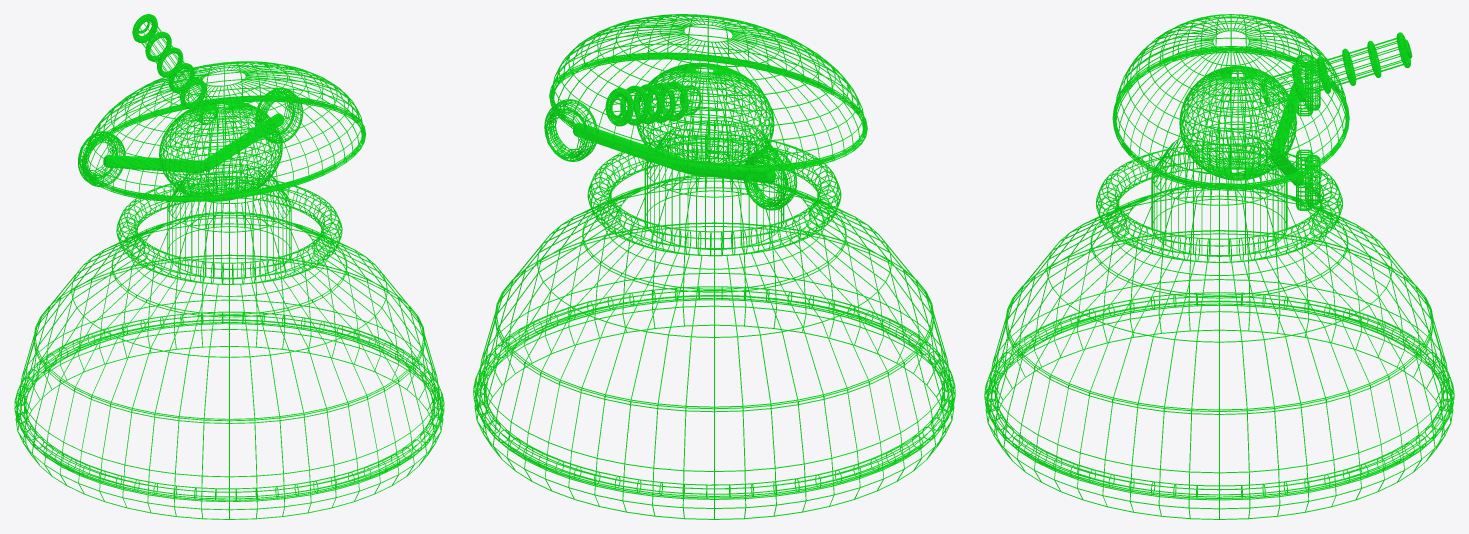
The model's file is plasma-turret-wireframe.glb.
The picture shows the model from 3 angles, left to right: view 1: azimuth 30°, elevation 25°; view 2: azimuth 150°, elevation 25°; view 3: azimuth 270°, elevation 25°; orthographic projection. The views are drawn at different scales.
Parts seen in each view (by area): view 1: armoured-power-base technical wire, water-cooled-plasma-delivery technical wire, chassis technical wire, tracking-and-ranging-sensors technical wire; view 2: armoured-power-base technical wire, water-cooled-plasma-delivery technical wire, chassis technical wire, tracking-and-ranging-sensors technical wire; view 3: armoured-power-base technical wire, water-cooled-plasma-delivery technical wire, chassis technical wire, tracking-and-ranging-sensors technical wire.
Boxes of the visible parts, x1=… form: armoured-power-base technical wire: x1=15, y1=163, x2=443, y2=519; water-cooled-plasma-delivery technical wire: x1=82, y1=14, x2=366, y2=201; chassis technical wire: x1=14, y1=311, x2=444, y2=500; tracking-and-ranging-sensors technical wire: x1=78, y1=88, x2=303, y2=186; armoured-power-base technical wire: x1=474, y1=120, x2=954, y2=519; water-cooled-plasma-delivery technical wire: x1=549, y1=14, x2=867, y2=176; chassis technical wire: x1=473, y1=286, x2=955, y2=498; tracking-and-ranging-sensors technical wire: x1=544, y1=99, x2=797, y2=210; armoured-power-base technical wire: x1=985, y1=130, x2=1453, y2=519; water-cooled-plasma-delivery technical wire: x1=1112, y1=14, x2=1412, y2=190; chassis technical wire: x1=984, y1=292, x2=1454, y2=498; tracking-and-ranging-sensors technical wire: x1=1270, y1=55, x2=1320, y2=210.
Bounding box in the file's own units: 2.02 × 1.85 × 2.02.
